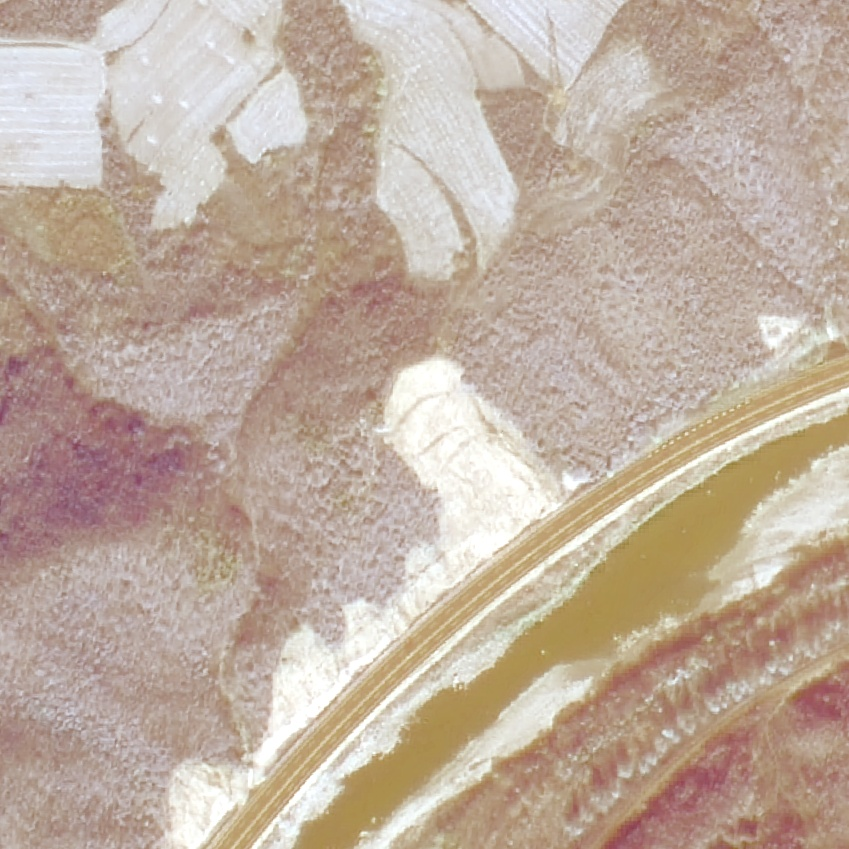slope: (150, 347, 575, 846), (751, 307, 848, 379)
